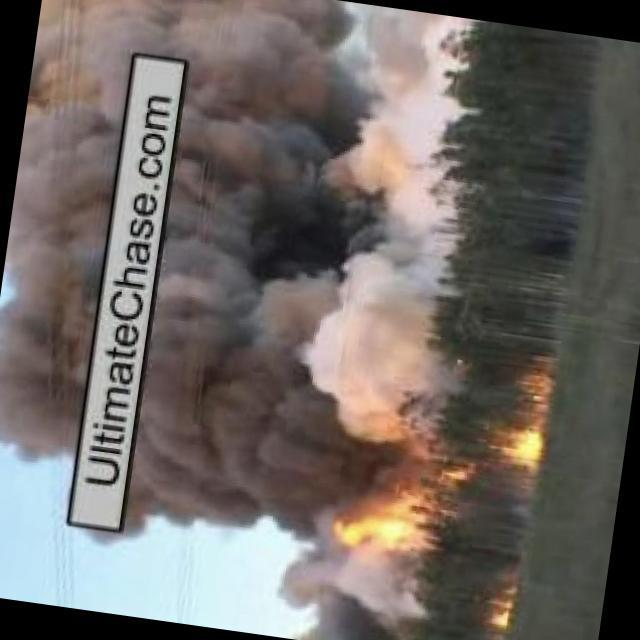Fire: (322, 479, 440, 562), (486, 419, 545, 467), (486, 588, 516, 628), (527, 367, 556, 400)
